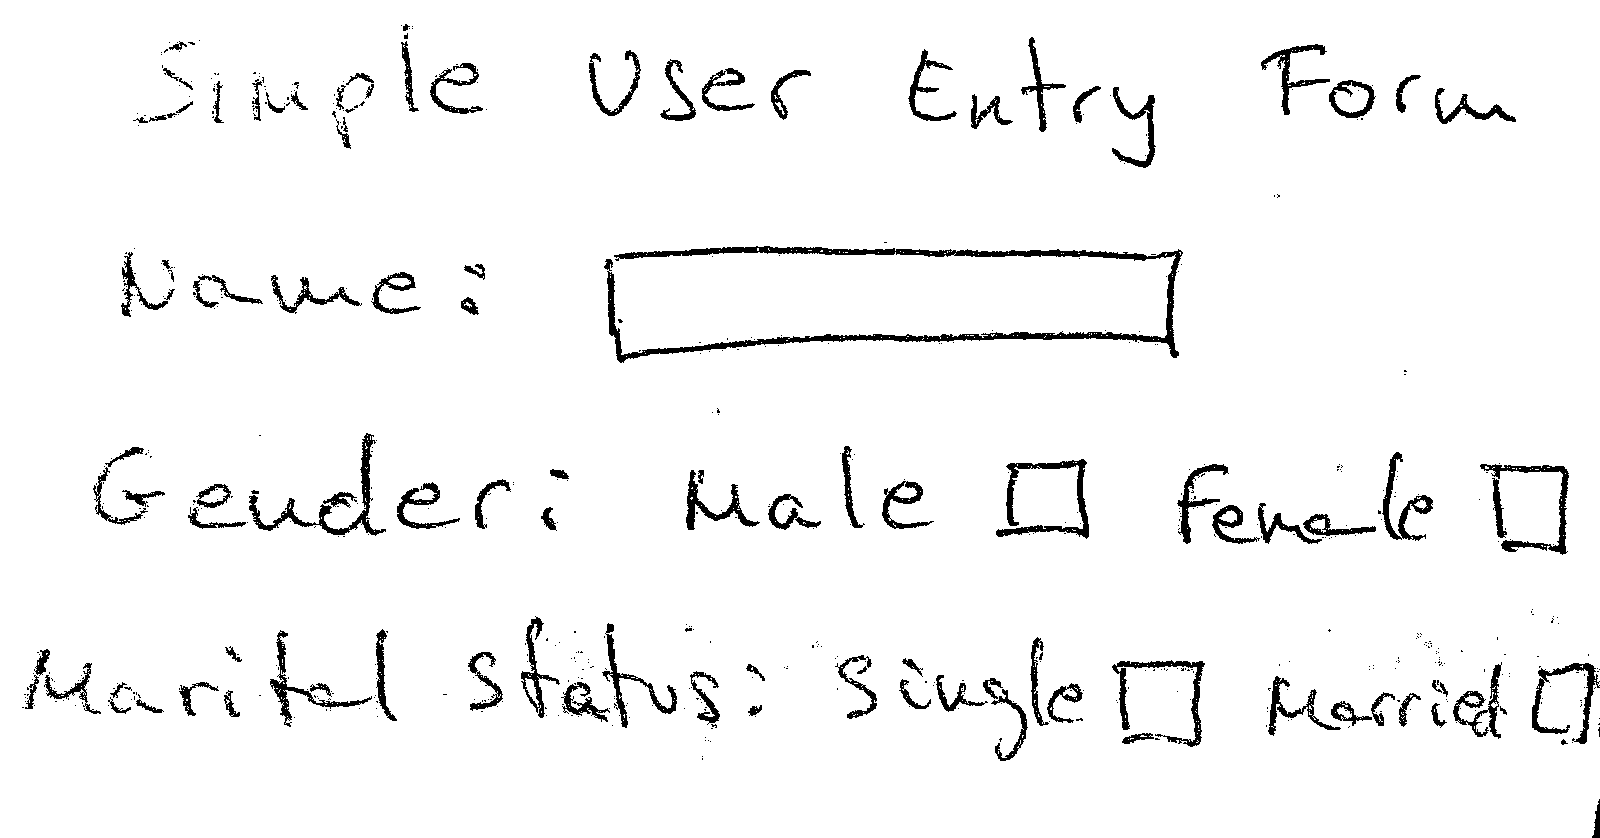Check Box: (984, 449, 1439, 563), (1108, 645, 1504, 757)
Textbox: (594, 238, 1192, 363)
